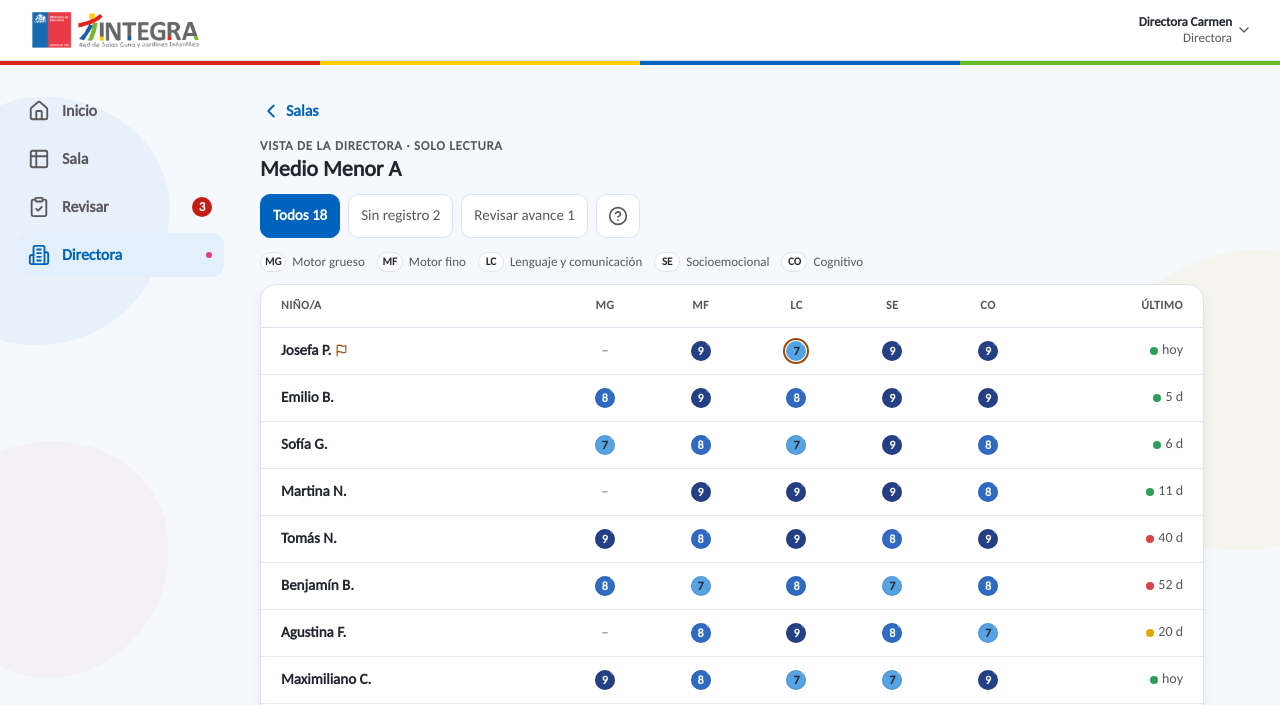
Test case: Directora › mueve de sala a un niño/a con confirmación
Step 1. Click the button "Josefa P." → (315,351), box [281,329,348,373]
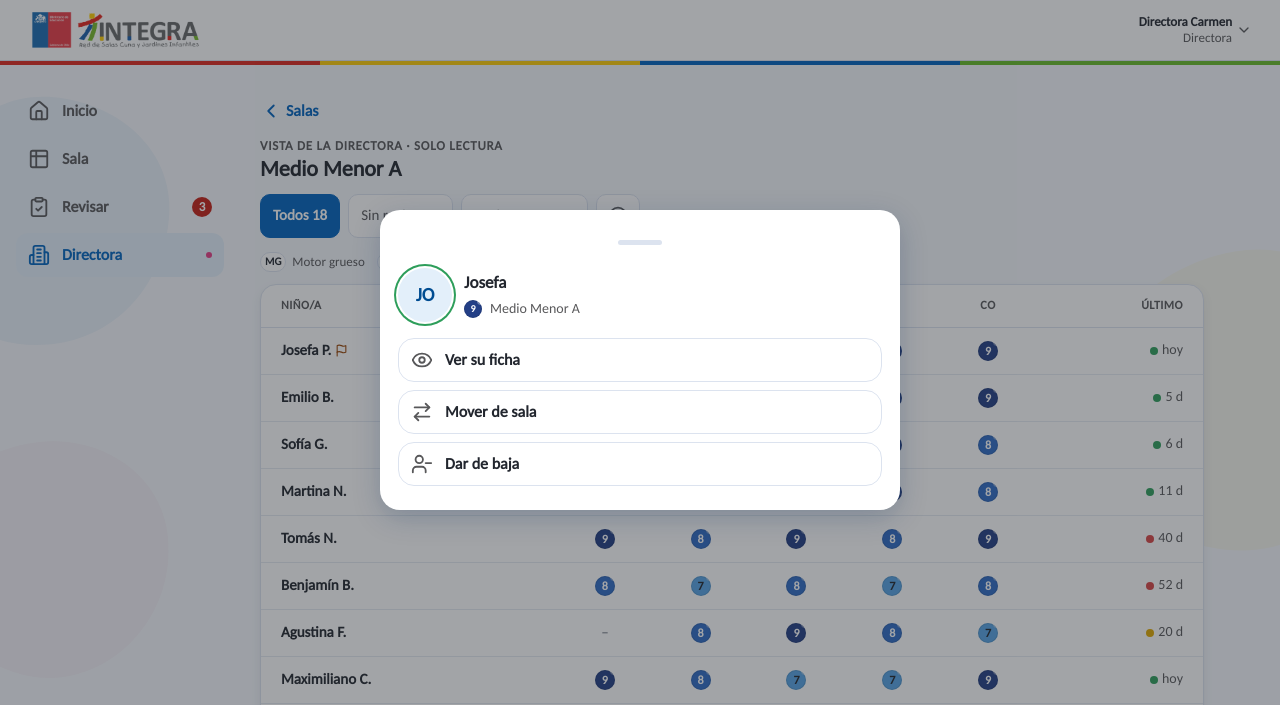
Expected: the text "Ver su ficha" is shown, [398,338,882,382]
Step 2. Click the button "Mover de sala" → (491,412), box [398,390,882,434]
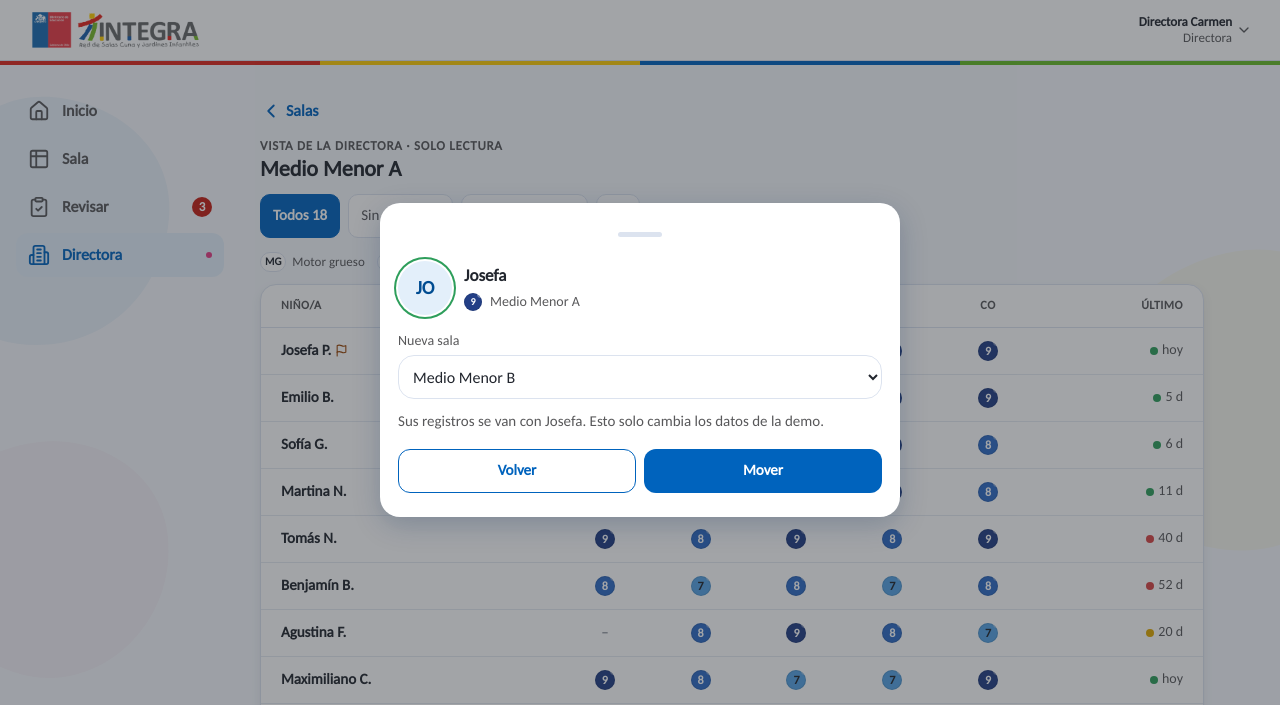
Expected: the text "Nueva sala" is shown, [398,331,882,399]
Step 3. Click the button "Mover" → (763,471), box [644,449,882,493]
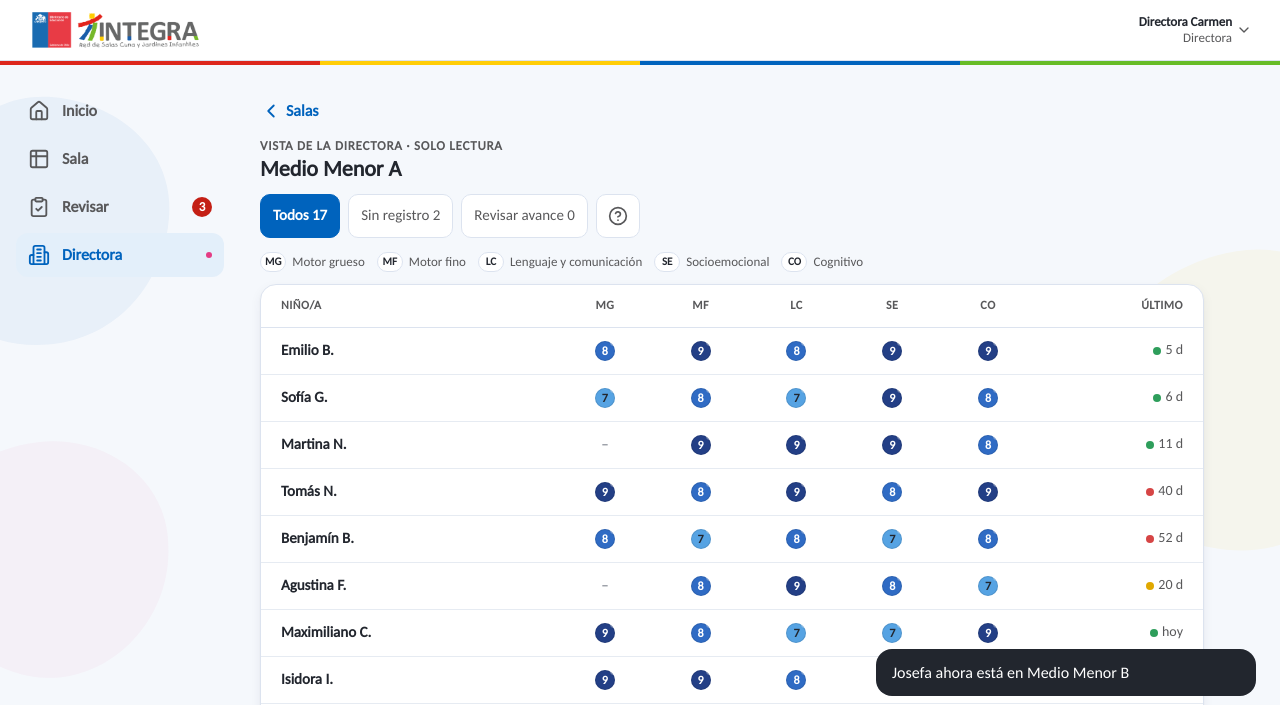
Expected: the text "ahora está en Medio Menor B" is shown, [892,663,1129,682]
